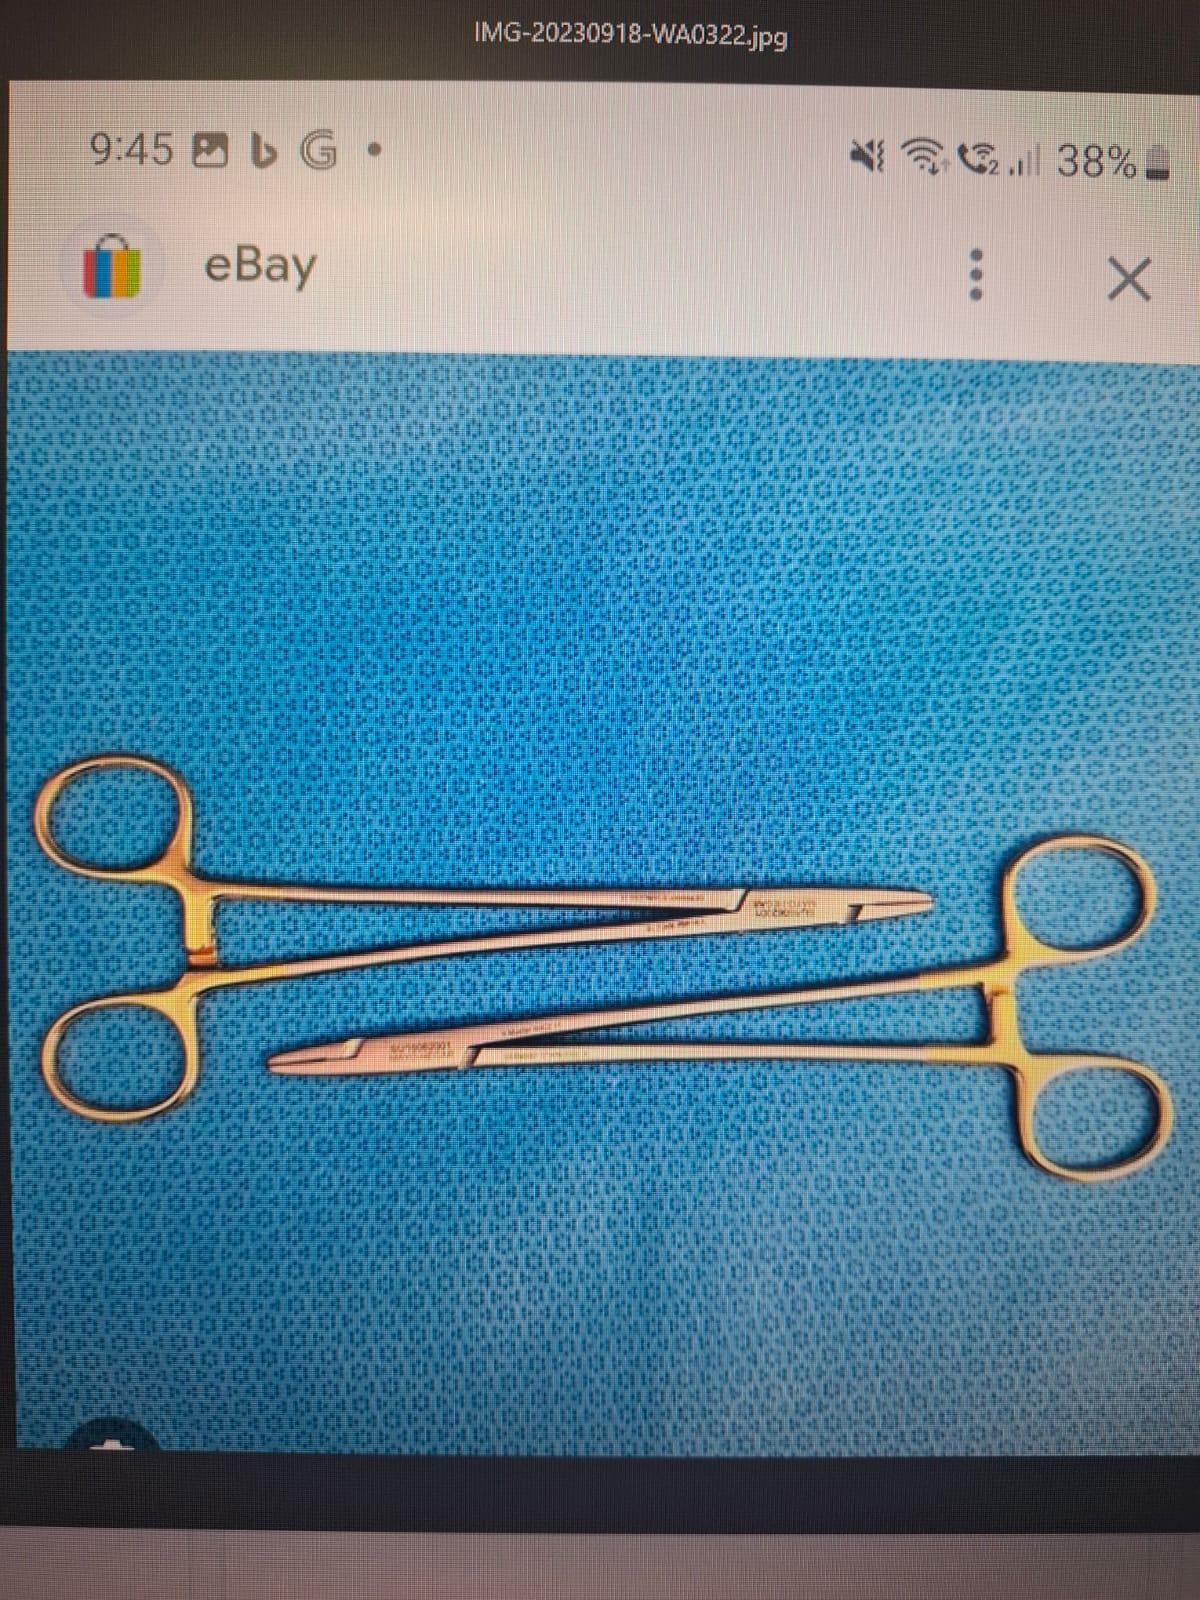Needle Holder: (20, 742, 940, 1138), (265, 820, 1185, 1196)
